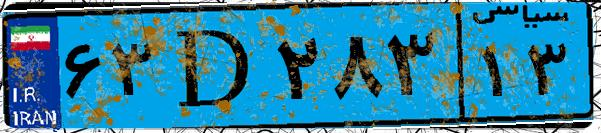1: (475, 38, 525, 113)
2: (270, 28, 330, 110)
3: (385, 28, 445, 110), (525, 38, 570, 115), (110, 28, 158, 98)
6: (57, 26, 110, 100)
8: (330, 28, 385, 110)
D: (158, 12, 270, 120)
